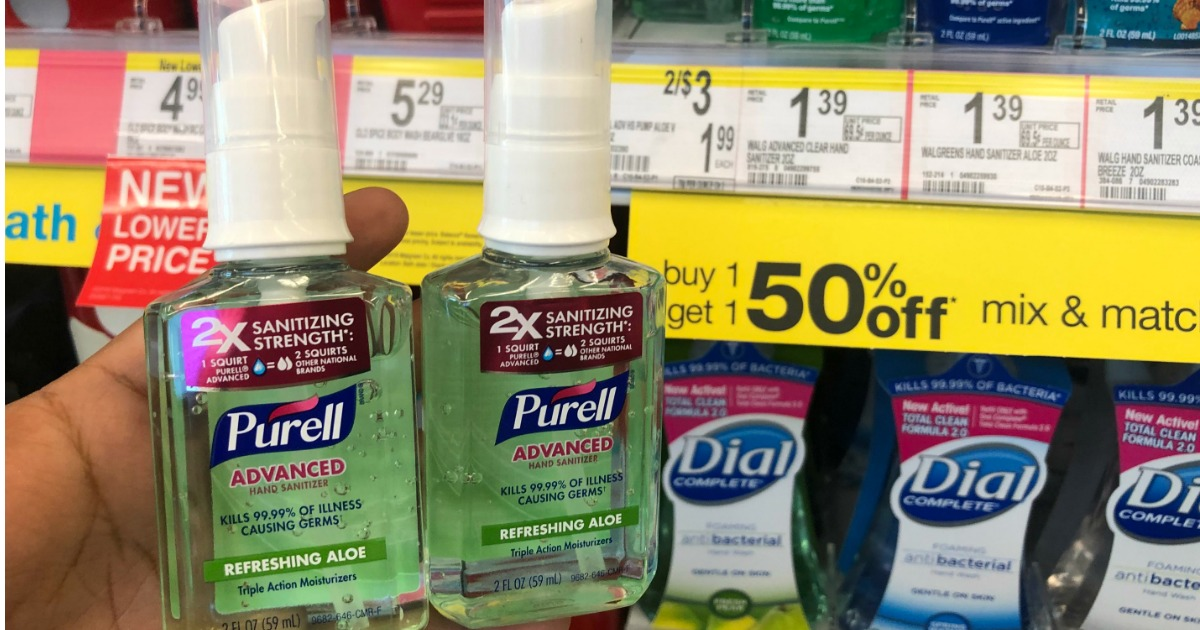Sanitizer: (140, 2, 430, 630), (418, 1, 674, 626)
